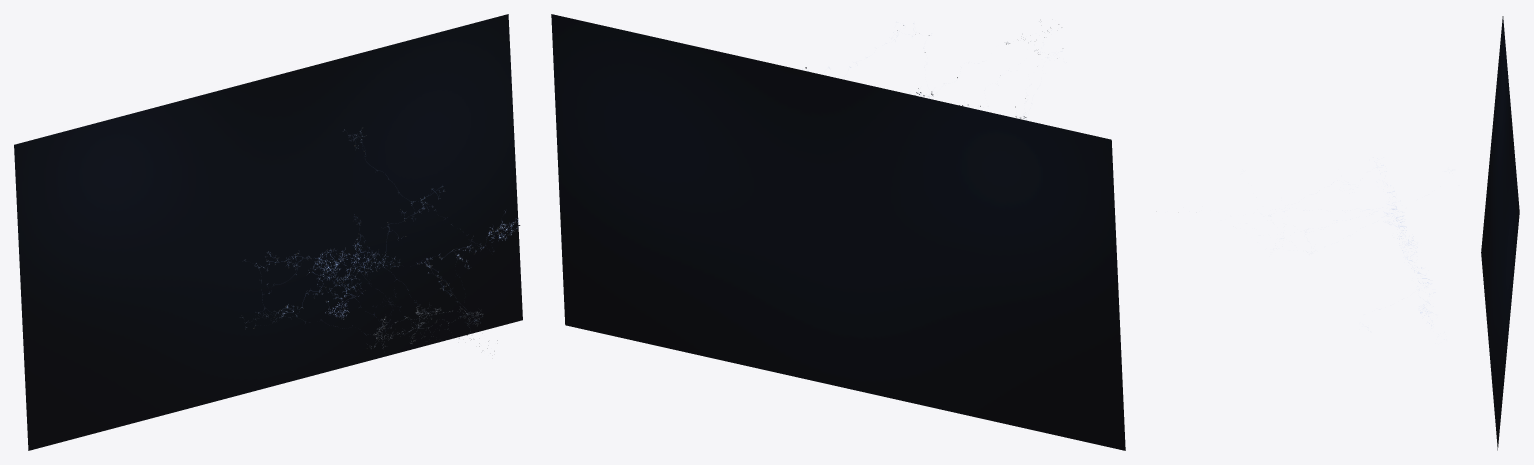
3 views of the same model, side by side, from view 1: azimuth 30°, elevation 25°; view 2: azimuth 150°, elevation 25°; view 3: azimuth 270°, elevation 25° (orthographic). The views are drawn at different scales.
Parts seen in each view (by area): view 1: fx_haze_backdrop; view 2: fx_haze_backdrop; view 3: fx_haze_backdrop.
Part boxes in pixels (x1,y1,x2,y2): fx_haze_backdrop: (14,14,522,450); fx_haze_backdrop: (551,14,1125,450); fx_haze_backdrop: (1481,16,1519,450).
Bounding box in the file's own units: 1468 × 822 × 1142.
9 materials, 5 textured.
